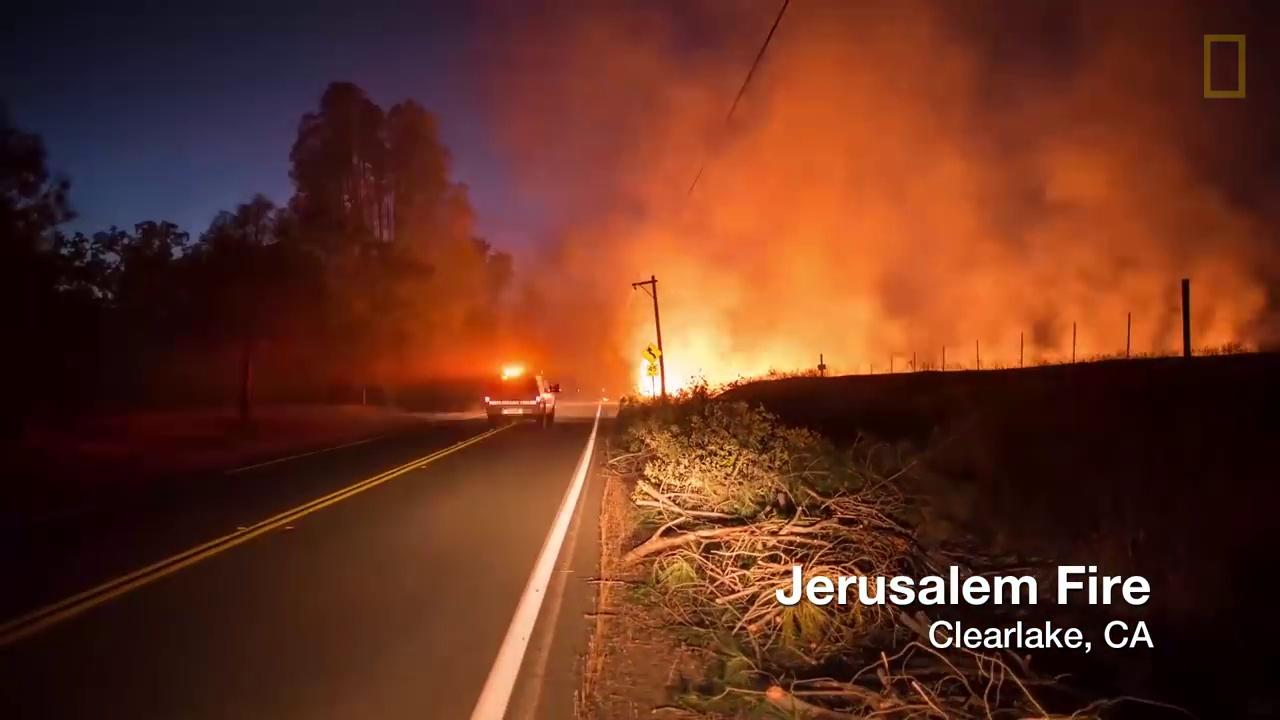Fire: (630, 354, 675, 393)
